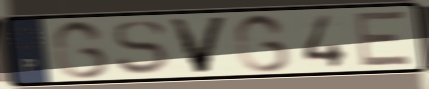4: (300, 11, 349, 70)
E: (354, 9, 414, 69)
G: (232, 11, 295, 75), (50, 18, 113, 81)
S: (110, 18, 169, 77)
V: (165, 14, 233, 76)
